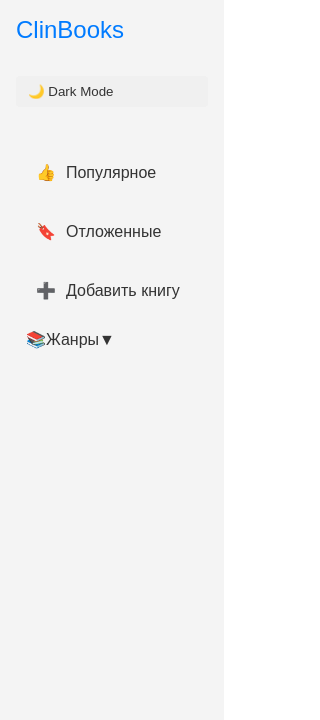
Scenario: Компонент Sidebar › dropdown жанров изначально закрыт и открывается/закрывается по клику
Expected: the text "▼" is shown, [99,331,115,348]
Expected: the text "Антиутопия" is not shown
What coordinates should you click on to do the following:
click the text "Жанры"
I would click on:
 (73, 340)
Its box is [46,331,99,348].
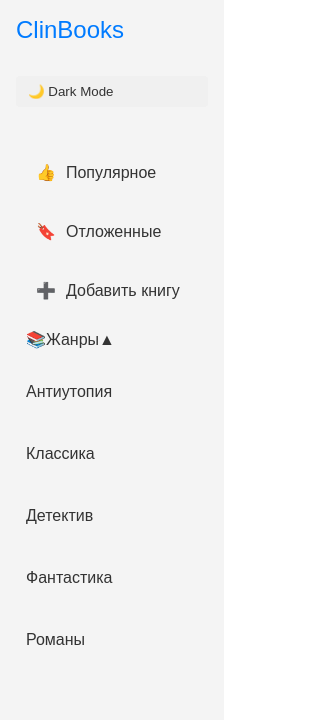
Result: the text "▲" is shown at [99,331,115,348]
What coordinates should you click on to do the following:
click the link "Антиутопия"
I would click on:
 (69, 392)
Its box is [26,383,112,400].
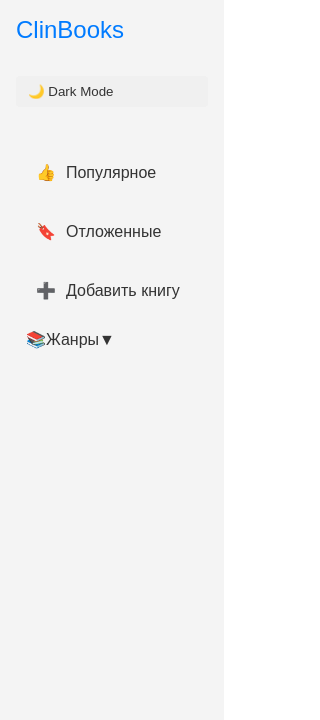
Result: the link "Антиутопия" is gone
Result: the text "▼" is shown at [99,331,115,348]
